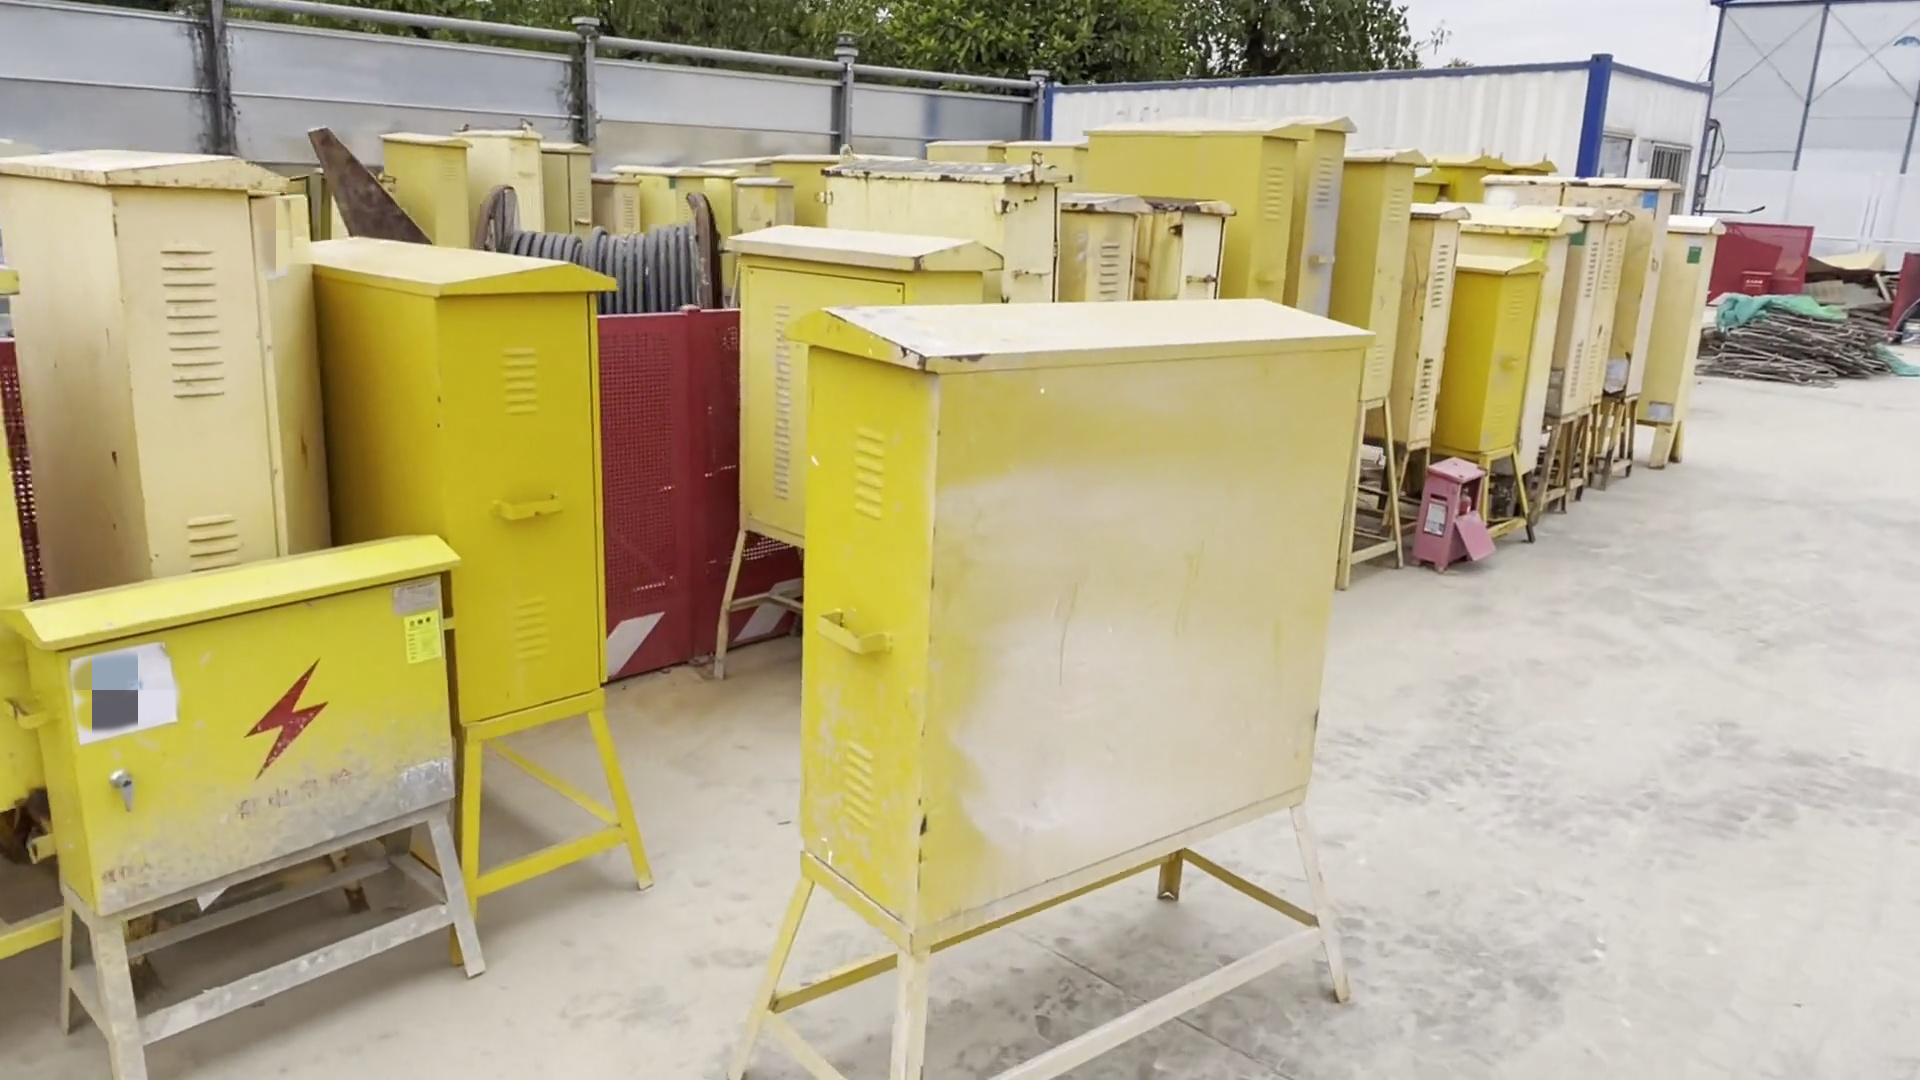ebox: (712, 293, 1414, 1080), (41, 516, 497, 1071), (331, 233, 667, 975), (33, 109, 309, 585), (723, 229, 1007, 683), (1059, 128, 1283, 297), (1338, 150, 1422, 583), (832, 160, 1056, 303), (1431, 256, 1538, 556), (1629, 210, 1742, 476), (1534, 214, 1607, 521), (1565, 222, 1629, 506), (382, 125, 475, 244), (458, 121, 547, 240), (621, 166, 698, 233), (542, 142, 588, 233), (733, 173, 793, 227), (589, 177, 642, 235)
